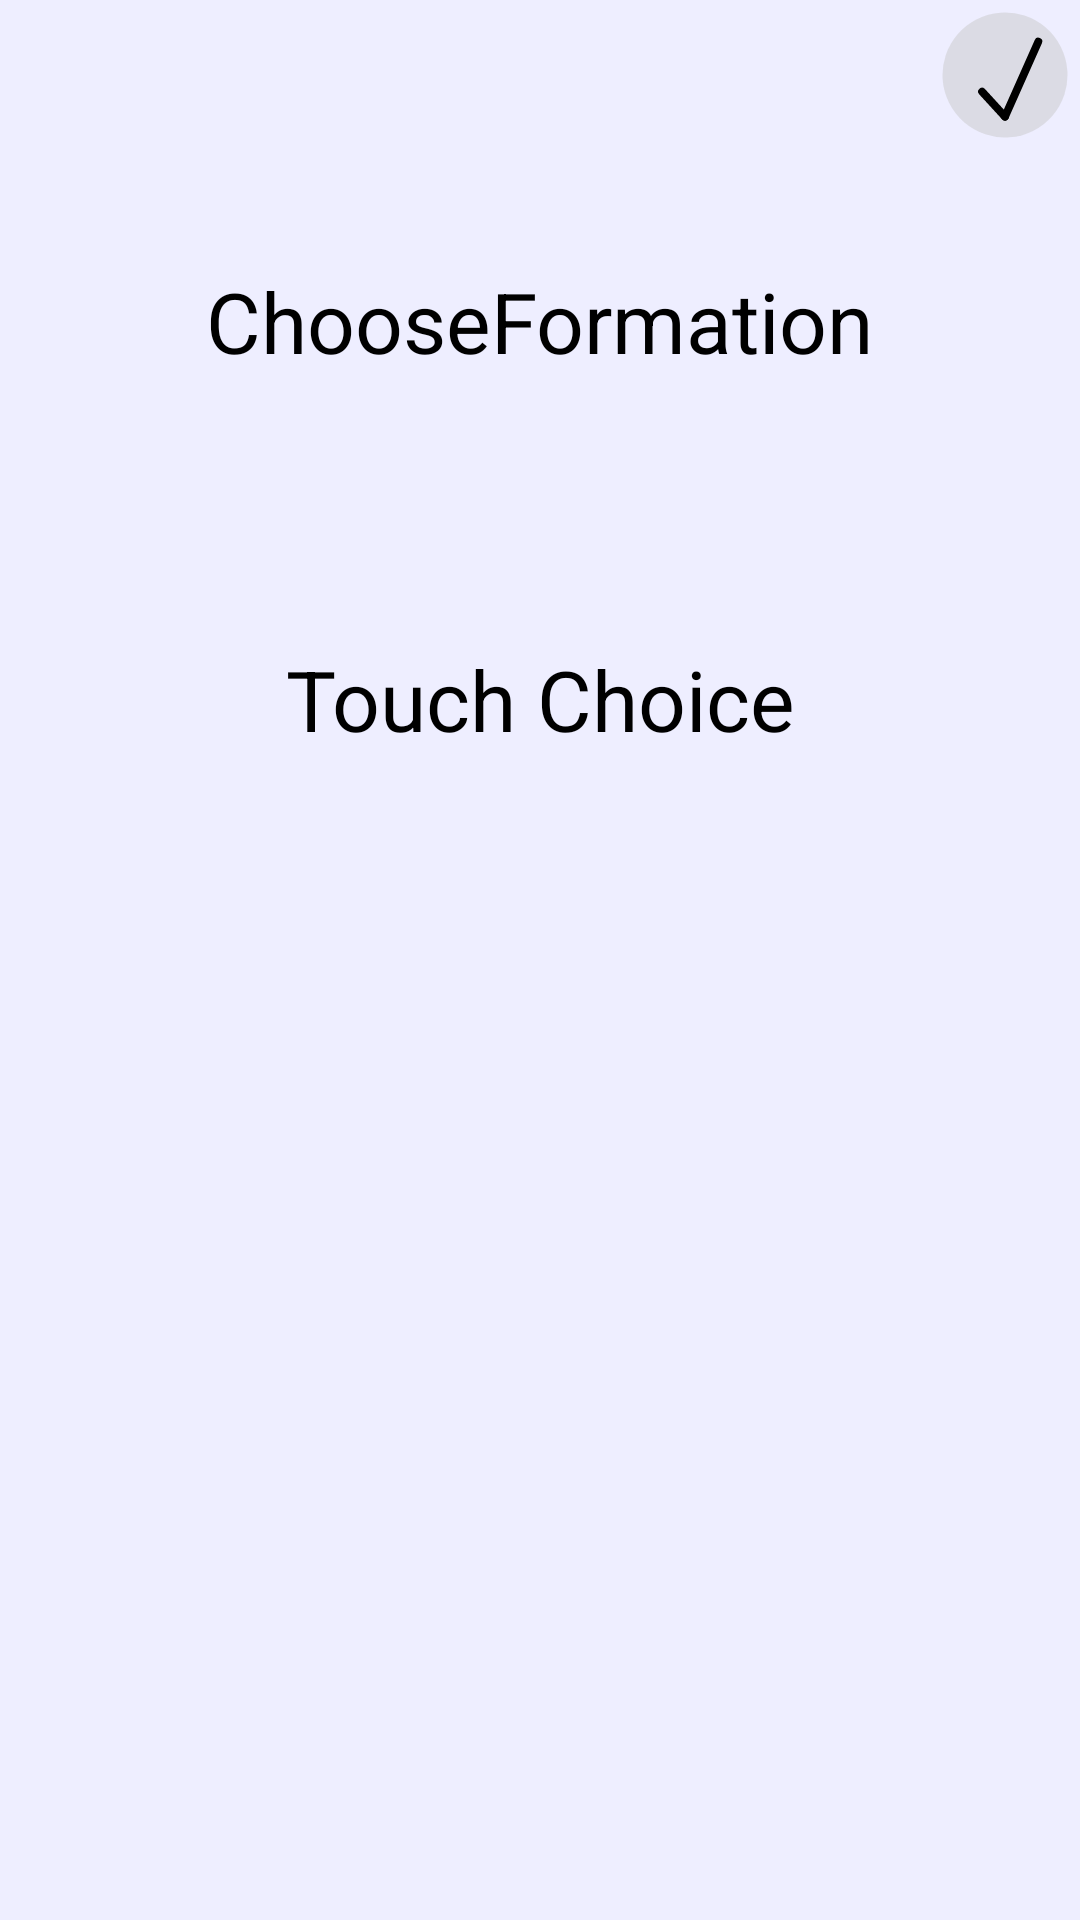

Named icons in this screenshot (1080w x 1920h) and their centers, [x,y]:
confirm: [1005,75]
